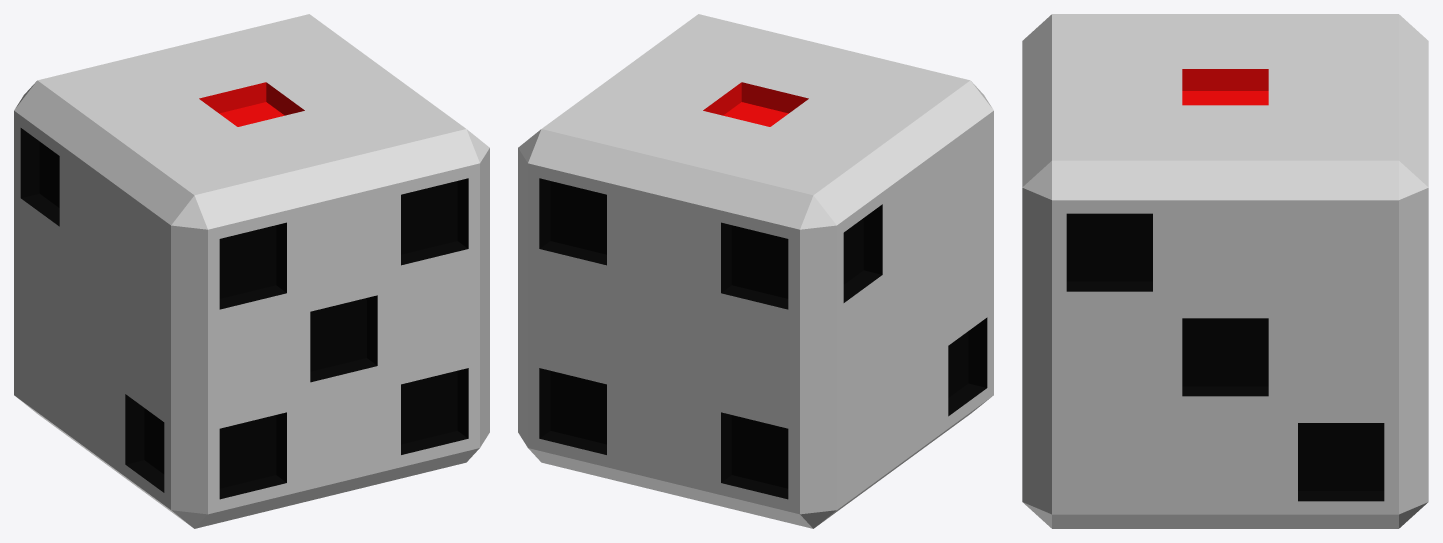
File: dice2.dae
3 views of the same model, side by side, from view 1: azimuth 30°, elevation 25°; view 2: azimuth 150°, elevation 25°; view 3: azimuth 270°, elevation 25° (orthographic). The views are drawn at different scales.
Parts seen in each view (by area): view 1: Cube; view 2: Cube; view 3: Cube.
Part boxes in pixels (<box>): Cube: <box>14,14,489,528</box>; Cube: <box>518,14,993,528</box>; Cube: <box>1022,14,1428,528</box>.
Size of the model in its own units: 2 by 2 by 2.
